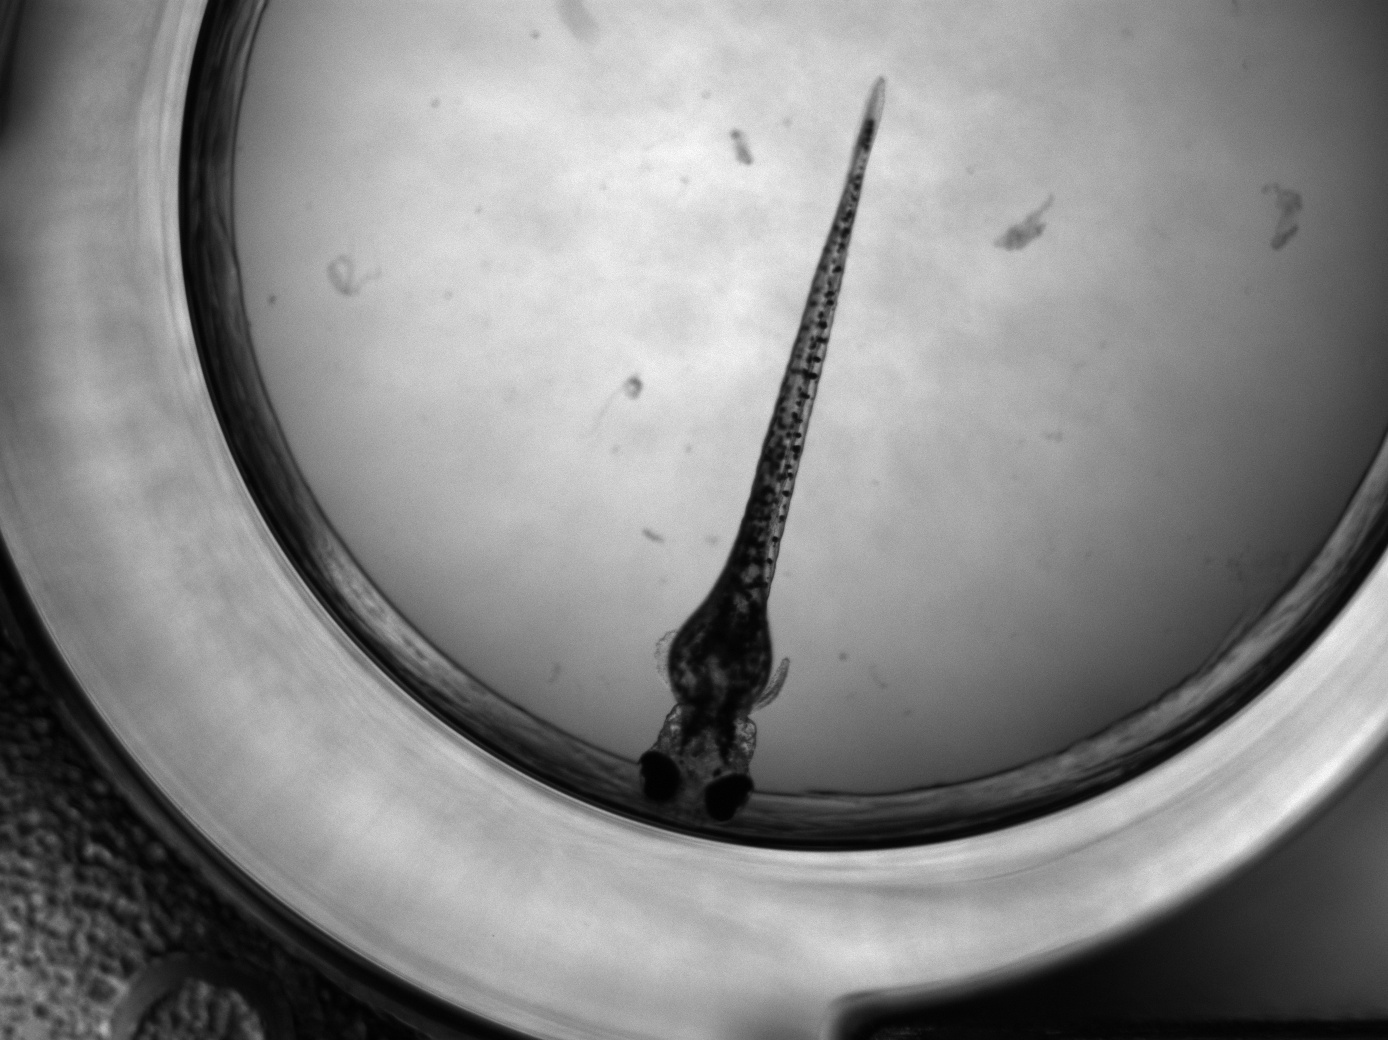embryo: (637, 74, 886, 826)
eye: (639, 751, 681, 806), (705, 773, 754, 822)
yolksac: (668, 604, 774, 709)
